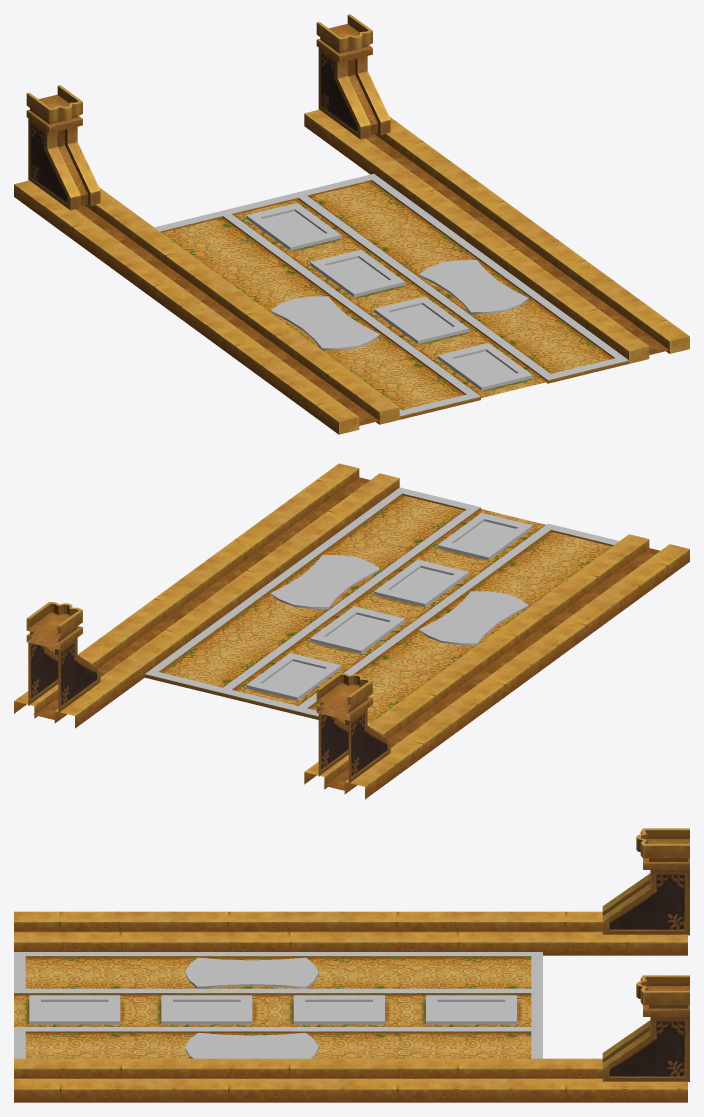
File: Stage_01_02_WaiMian.FBX
The picture shows the model from 3 angles, top to bottom: view 1: azimuth 30°, elevation 25°; view 2: azimuth 150°, elevation 25°; view 3: azimuth 270°, elevation 25°; orthographic projection. The views are drawn at different scales.
Visible parts, largest first — view 1: Stage_01_02_WaiMian; view 2: Stage_01_02_WaiMian; view 3: Stage_01_02_WaiMian.
Part boxes in pixels (x1,y1,x2,y2): Stage_01_02_WaiMian: (14, 14, 689, 434); Stage_01_02_WaiMian: (14, 463, 689, 799); Stage_01_02_WaiMian: (14, 828, 689, 1102).
Bounding box in the file's own units: 1991 × 540 × 3203.
